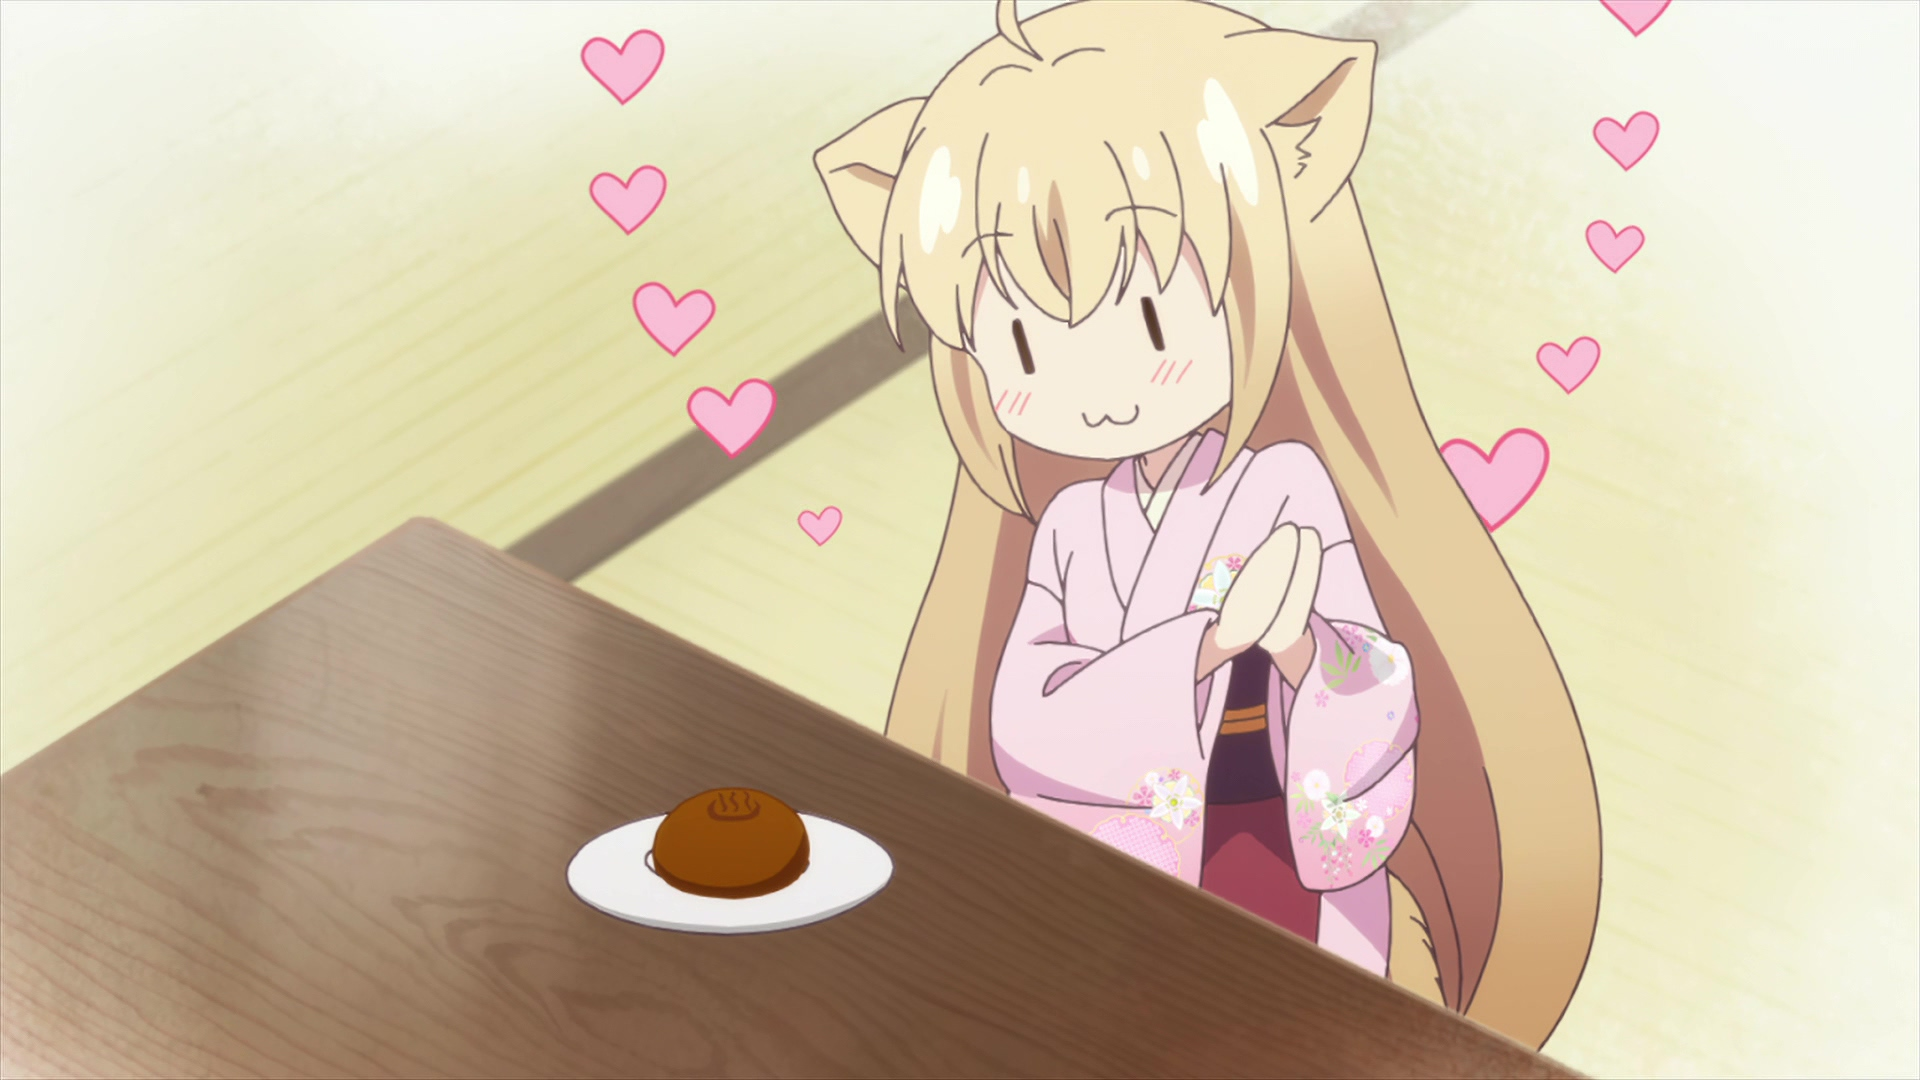柚: (810, 1, 1604, 1058)
